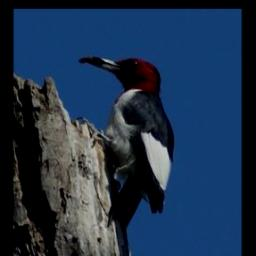Woodpecker: (79, 55, 175, 256)
